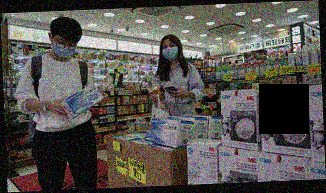with_mask: (51, 36, 78, 59), (161, 42, 180, 62)
